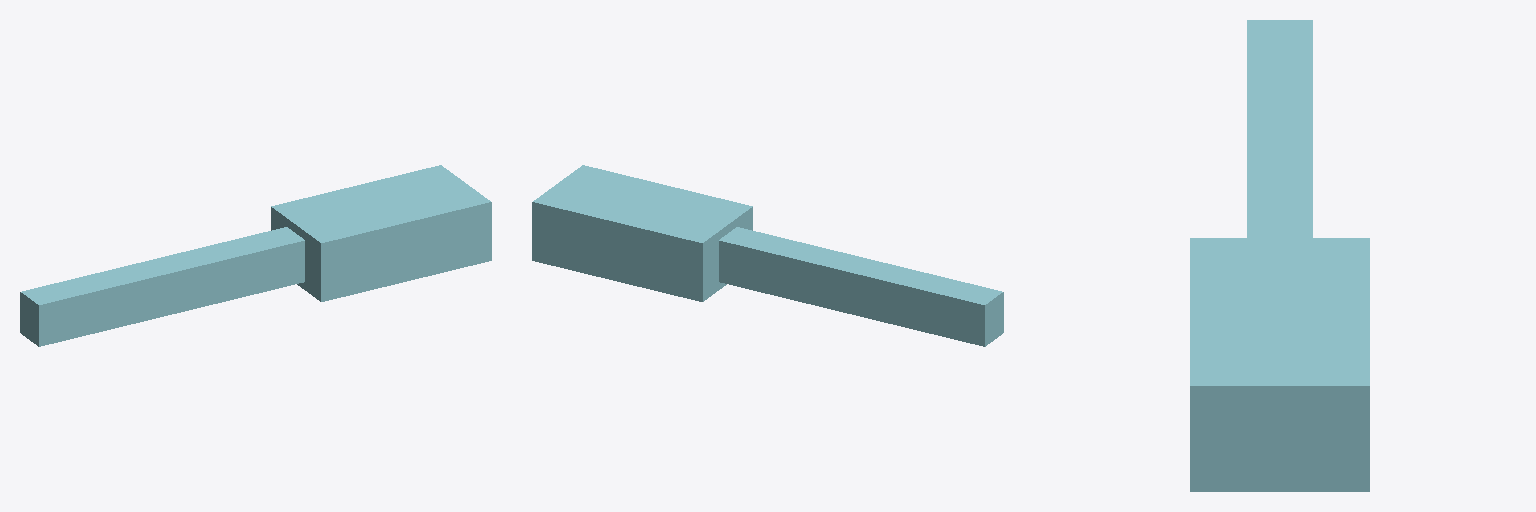
URDF robot description (cuboid_brush_v8012):
<?xml version="1.0"?>
<robot name="cuboid_brush_v8012">

  <link name="cuboid_brush_v8012">
    <!-- Handle -->
    <visual>
      <origin xyz="0 0 0" rpy="0 0 0"/>
      <geometry>
        <box size="0.14302239299424446 0.01724916726217257 0.021384241008613535"/>
      </geometry>
      <material name="material">
        <color rgba="0.639 0.847 0.882 1.0"/>
      </material>
    </visual>
    <collision>
      <origin xyz="0 0 0" rpy="0 0 0"/>
      <geometry>
        <box size="0.14302239299424446 0.01724916726217257 0.021384241008613535"/>
      </geometry>
    </collision>

    <!-- Head -->
    <visual>
      <origin xyz="0.11716803489393665 0 0" rpy="0 0 0"/>
      <geometry>
        <box size="0.09131367679362884 0.04698870666179558 0.030237069645593695"/>
      </geometry>
      <material name="material">
        <color rgba="0.639 0.847 0.882 1.0"/>
      </material>
    </visual>
    <collision>
      <origin xyz="0.11716803489393665 0 0" rpy="0 0 0"/>
      <geometry>
        <box size="0.09131367679362884 0.04698870666179558 0.030237069645593695"/>
      </geometry>
    </collision>

    <inertial>
      <density value="400.0"/>
    </inertial>
  </link>

</robot>

--- Facts derived from the render (not from the file) ---
Views: 3 orthographic renders of the robot side by side, from view 1: azimuth 30°, elevation 25°; view 2: azimuth 150°, elevation 25°; view 3: azimuth 270°, elevation 25°.
Model cuboid_brush_v8012 with 1 links and 0 joints (none), rooted at cuboid_brush_v8012, posed all joints at 0.
Links seen in each view (by area): view 1: cuboid_brush_v8012; view 2: cuboid_brush_v8012; view 3: cuboid_brush_v8012.
Boxes of the visible links, x1=… form: cuboid_brush_v8012: x1=20, y1=165, x2=491, y2=346; cuboid_brush_v8012: x1=532, y1=165, x2=1003, y2=346; cuboid_brush_v8012: x1=1190, y1=20, x2=1369, y2=491.
Size in the robot's own frame: 0.2343 by 0.047 by 0.0302 metres.
Geometry: primitives only (box / cylinder / sphere), no mesh files.
